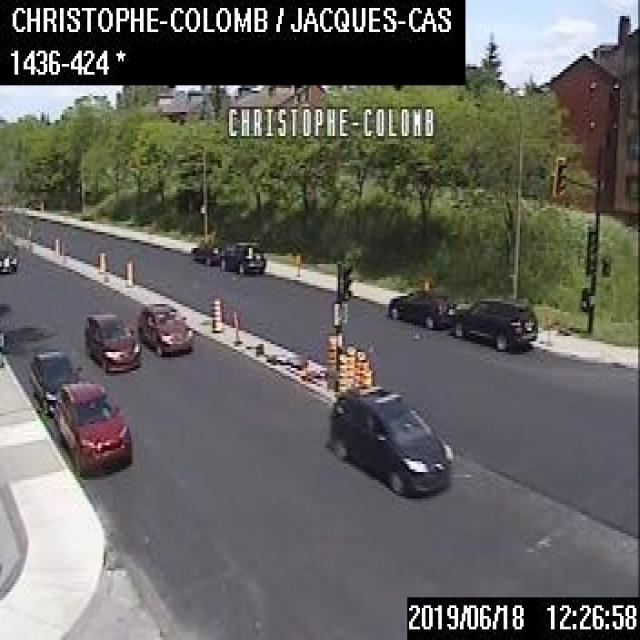construction: (324, 334, 336, 381), (345, 343, 355, 388), (336, 352, 346, 393), (231, 306, 240, 347), (354, 348, 364, 384), (210, 296, 220, 331), (359, 356, 368, 384), (124, 256, 132, 285), (97, 248, 104, 272), (363, 367, 372, 384), (26, 224, 31, 244), (53, 238, 58, 258)
vehicle: (327, 379, 451, 493), (53, 379, 131, 474), (449, 295, 538, 352), (27, 347, 83, 412), (84, 311, 140, 371), (137, 302, 191, 354), (387, 287, 455, 328), (219, 239, 265, 275), (189, 235, 220, 264), (0, 245, 18, 272)
